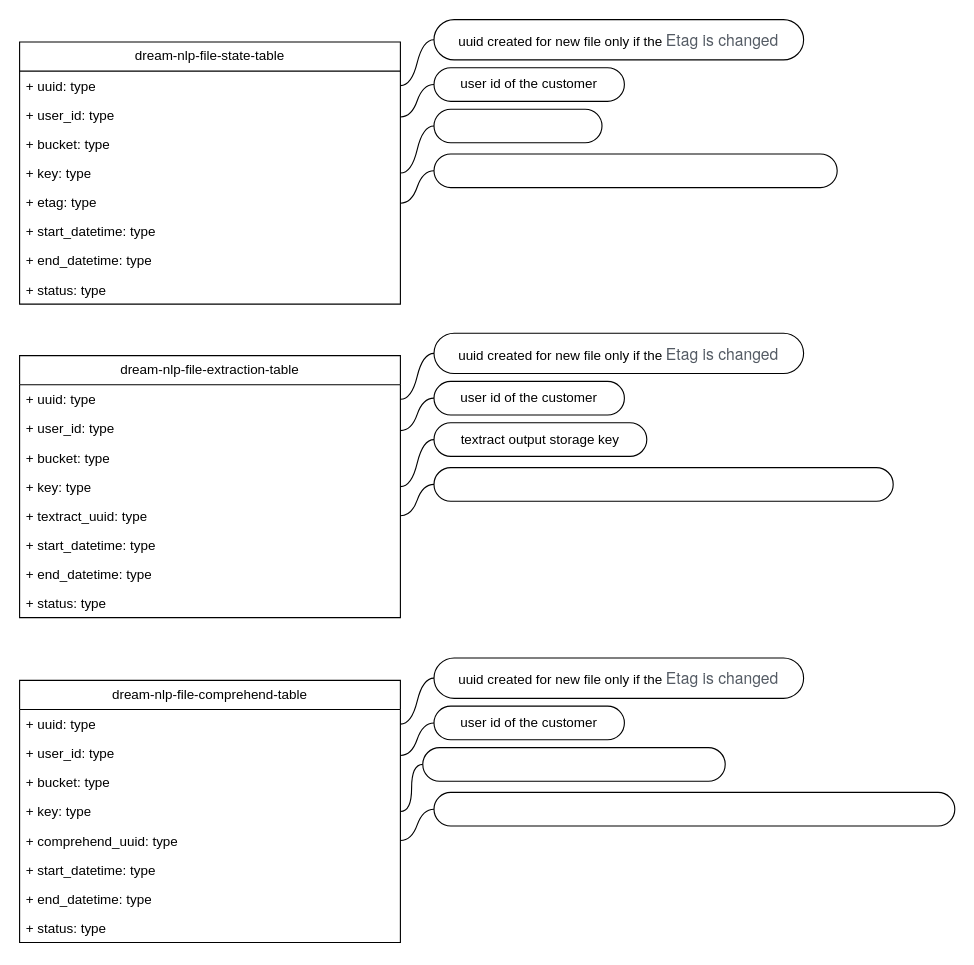
Some shapes in this 974 by 965 pixel diagram are drawn without their labels. The shapes that lost their labels are listed below. From the top down, each one's centre as x and y in pixels, then its label:
At point 517,125: "pdf file storage key".
At point 635,170: "etag is created by s3 when a new item is stored".
At point 663,483: "textract_uuid is created by textract process when a new item is stored".
At point 573,763: "comprehend output storage key".
At point 694,808: "comprehend_uuid is created by textract process when a new item is stored".
